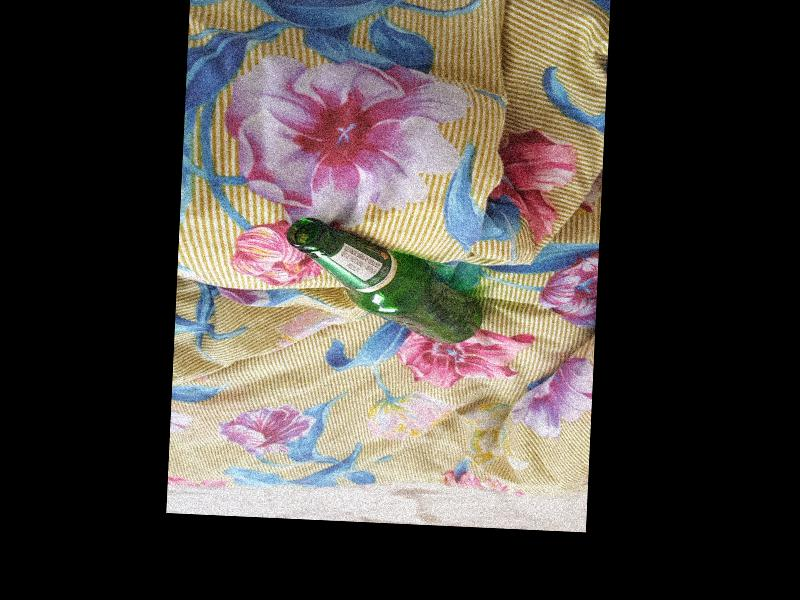Beer: (283, 215, 484, 344)
